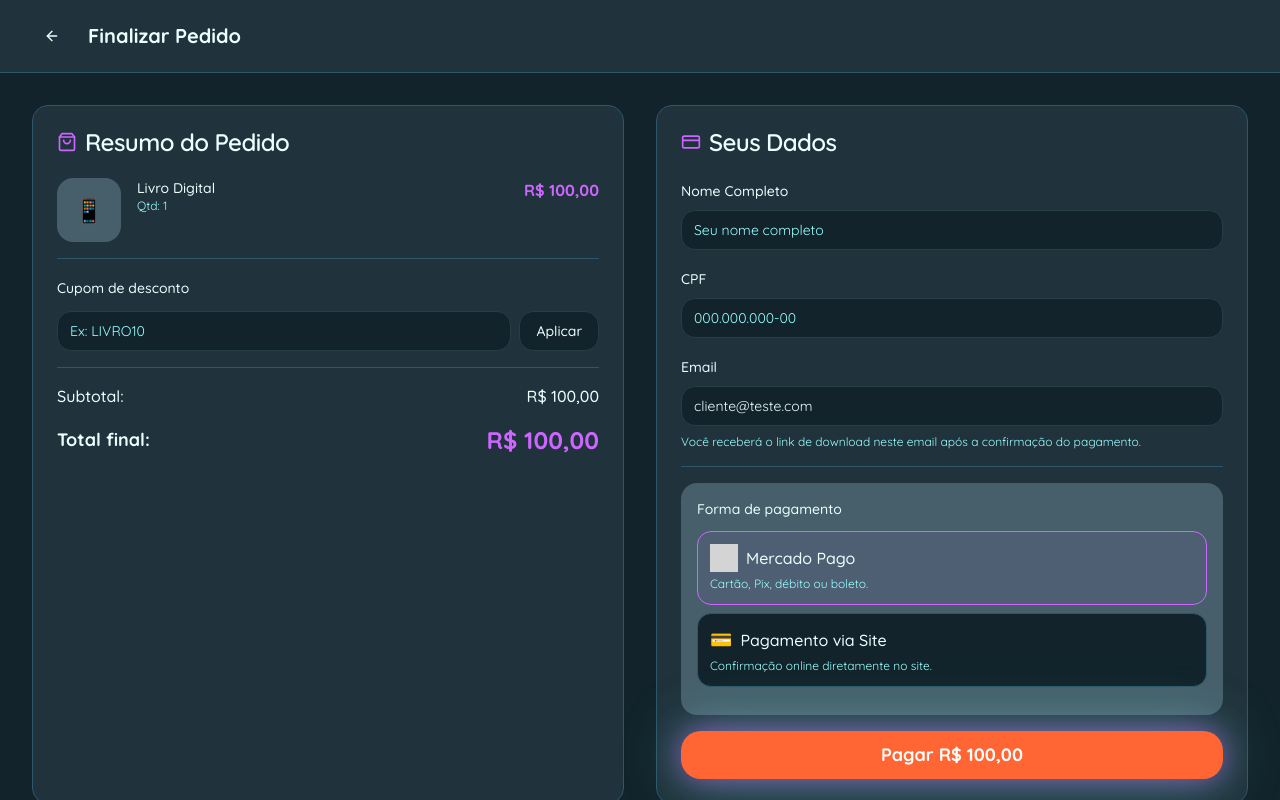
Test: Checkout page › applies coupon and allows removing it
The width and height of the screenshot is (1280, 800).
Type "livro10" into the field with placeholder "Ex: LIVRO10" at (284, 331), box [57,311,511,351]
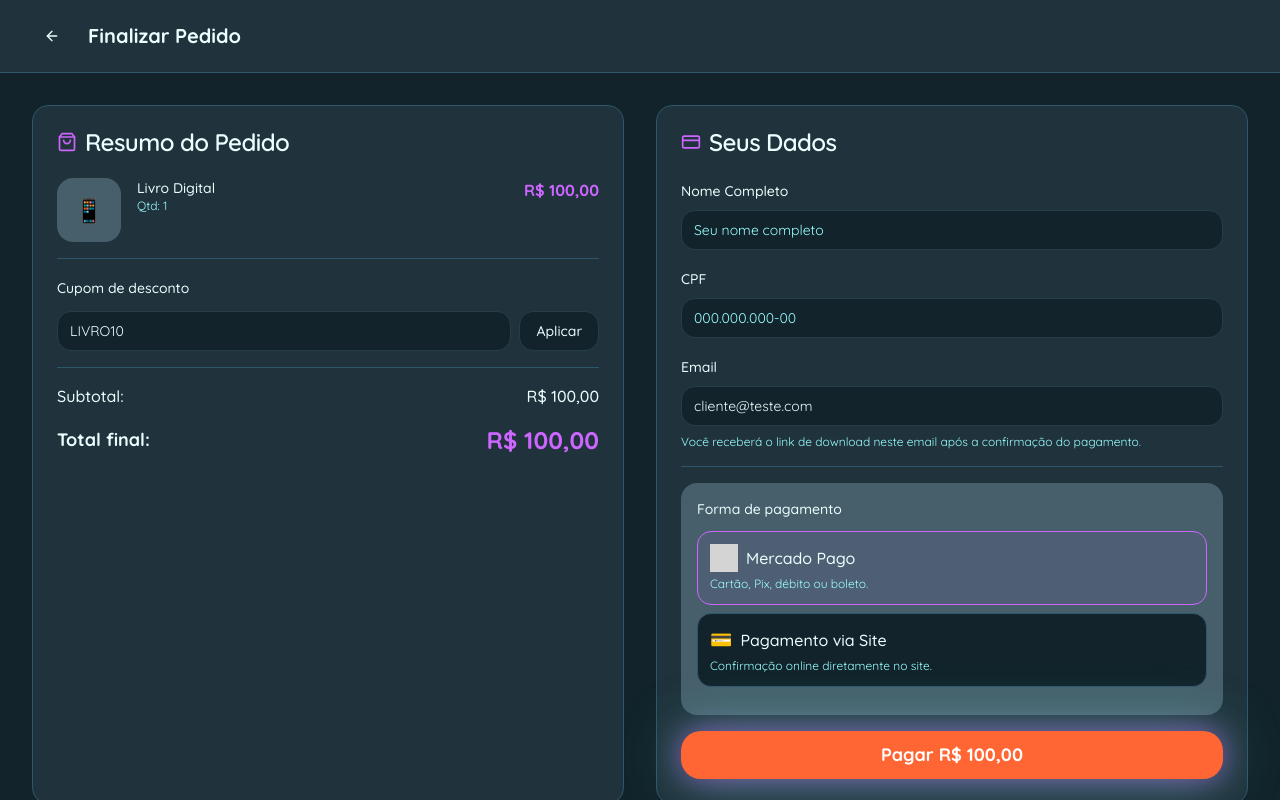
Click the button "Aplicar" at (559, 331), box [519,311,599,351]
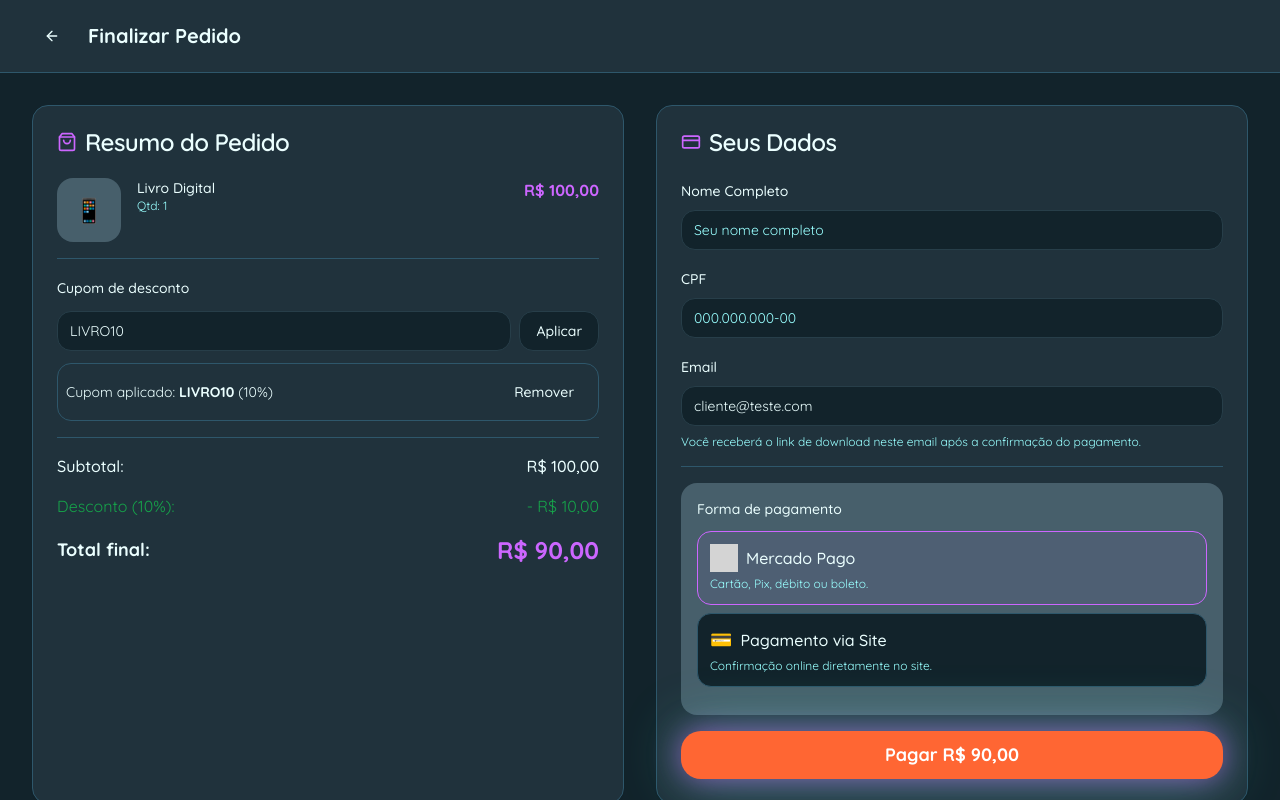
Check: the text "Cupom aplicado: LIVRO10 (10%)" is shown, box [66,382,273,402]
Click the button "Remover" at (544, 392), box [498,372,590,412]
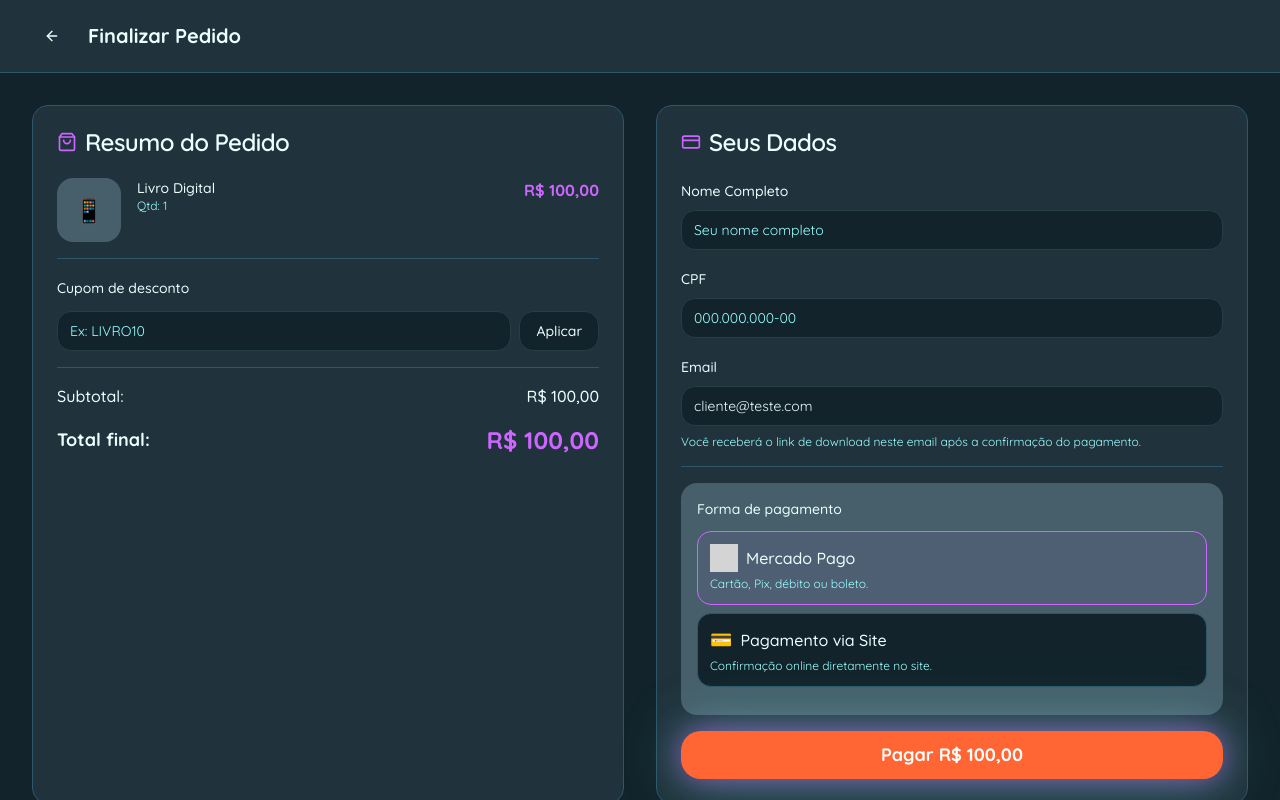
Check: the text "Cupom aplicado: " is gone
